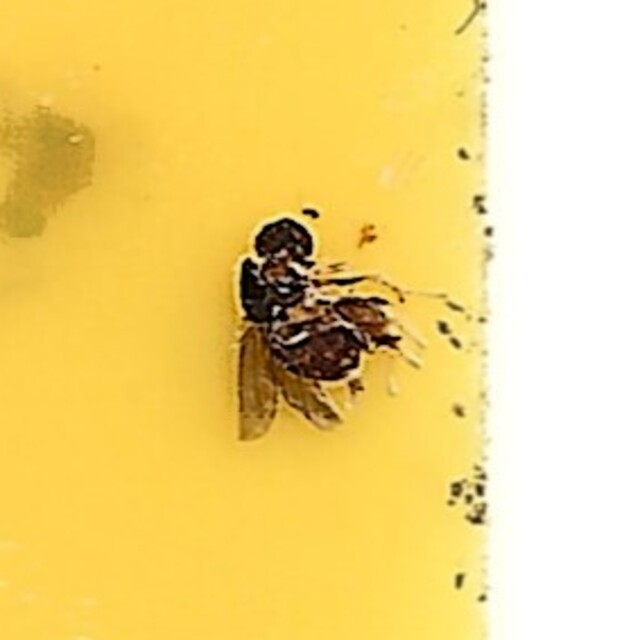Brachycera: (226, 198, 414, 442)
